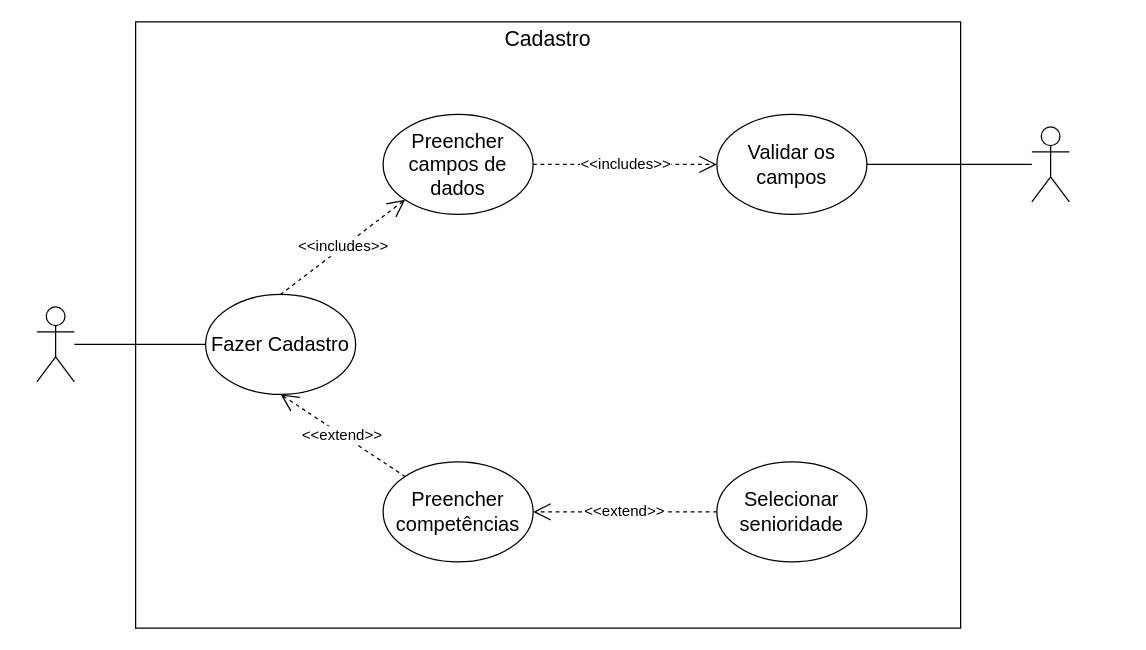
This 1146x650 diagram has some shape labels left out. Each missing label, with the centre of its shape:
"Banco de Dados" goes at point 1050,164.
"Usuário" goes at point 55,344.
